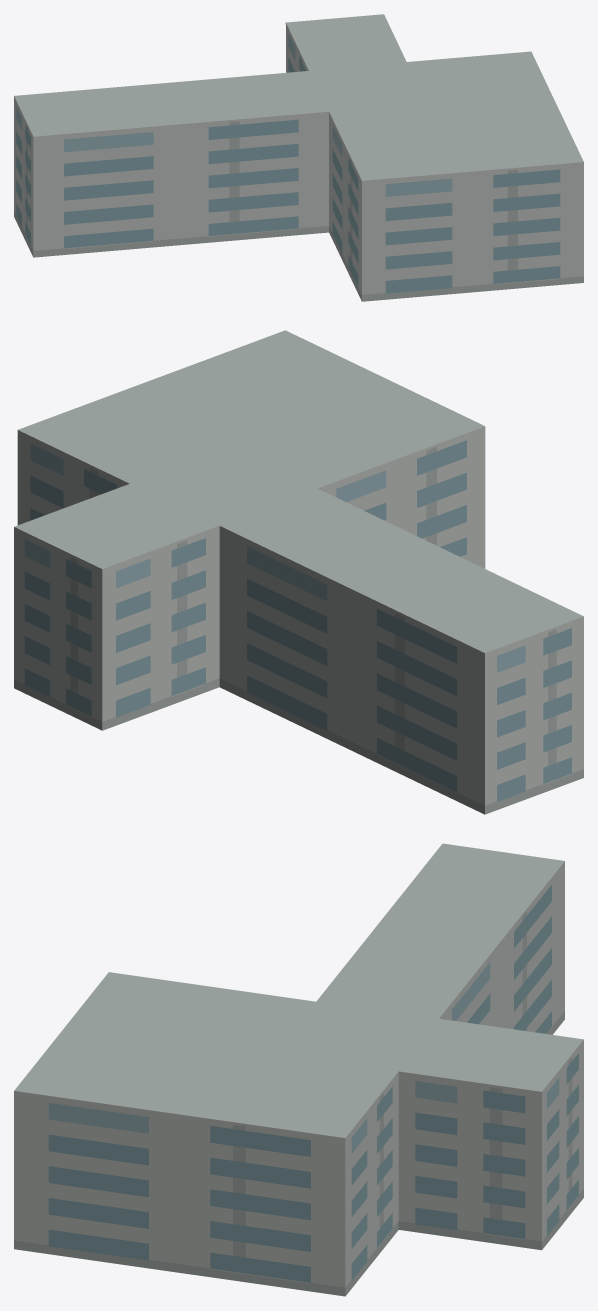
The model's file is residential-063be322-eaec-461c-8c5f-72d83b0c6ec4.glb.
3 renders of one model, top to bottom at view 1: azimuth 30°, elevation 25°; view 2: azimuth 150°, elevation 25°; view 3: azimuth 270°, elevation 25°, orthographic. The views are drawn at different scales.
Visible parts, largest first — view 1: residential-063be322-eaec-461c-8c5f-72d83b0c6ec4.tmp; view 2: residential-063be322-eaec-461c-8c5f-72d83b0c6ec4.tmp; view 3: residential-063be322-eaec-461c-8c5f-72d83b0c6ec4.tmp.
Boxes of the visible parts, <box> form: residential-063be322-eaec-461c-8c5f-72d83b0c6ec4.tmp: <box>14,14,583,301</box>; residential-063be322-eaec-461c-8c5f-72d83b0c6ec4.tmp: <box>14,330,583,814</box>; residential-063be322-eaec-461c-8c5f-72d83b0c6ec4.tmp: <box>14,843,583,1296</box>.
Size of the model in its own units: 60.87 by 15.25 by 49.75.
